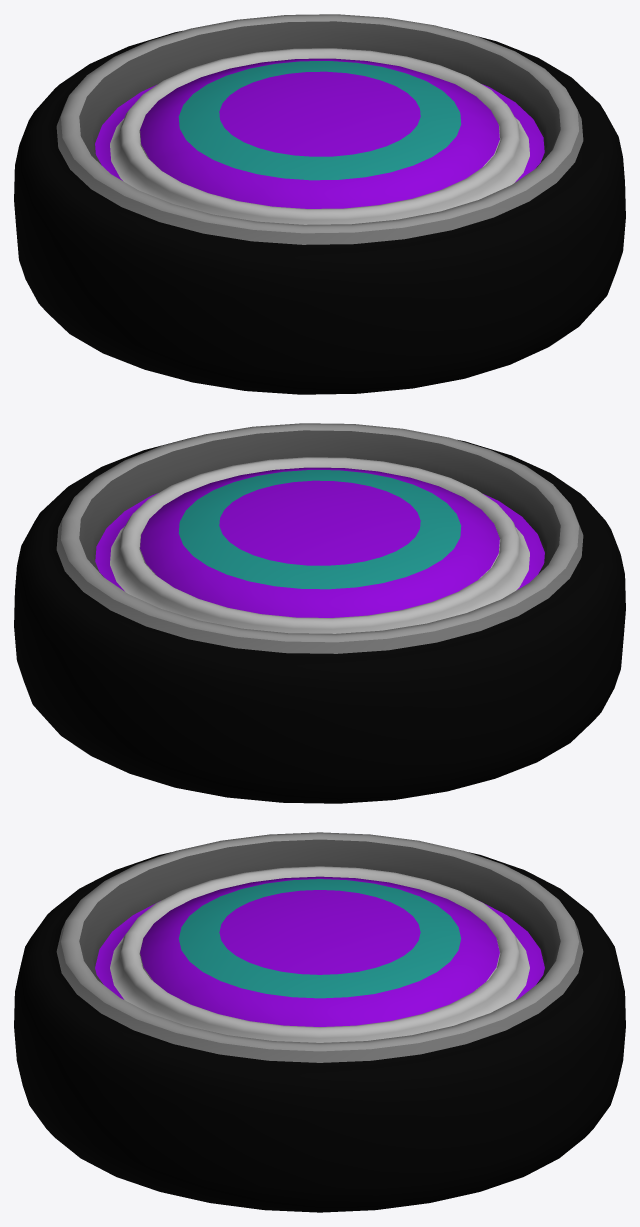
The model's file is mesh_Rooftop_Hockey_Puck.fbx.
3 views of the same model, one above another, from view 1: azimuth 30°, elevation 25°; view 2: azimuth 150°, elevation 25°; view 3: azimuth 270°, elevation 25° (orthographic).
Parts seen in each view (by area): view 1: mesh_Rooftop_Hockey_Puck; view 2: mesh_Rooftop_Hockey_Puck; view 3: mesh_Rooftop_Hockey_Puck.
Boxes of the visible parts, bbox=[...] form: mesh_Rooftop_Hockey_Puck: bbox=[14, 14, 625, 394]; mesh_Rooftop_Hockey_Puck: bbox=[14, 423, 625, 803]; mesh_Rooftop_Hockey_Puck: bbox=[14, 832, 625, 1212].
Size of the model in its own units: 2.96 by 0.8742 by 2.96.
